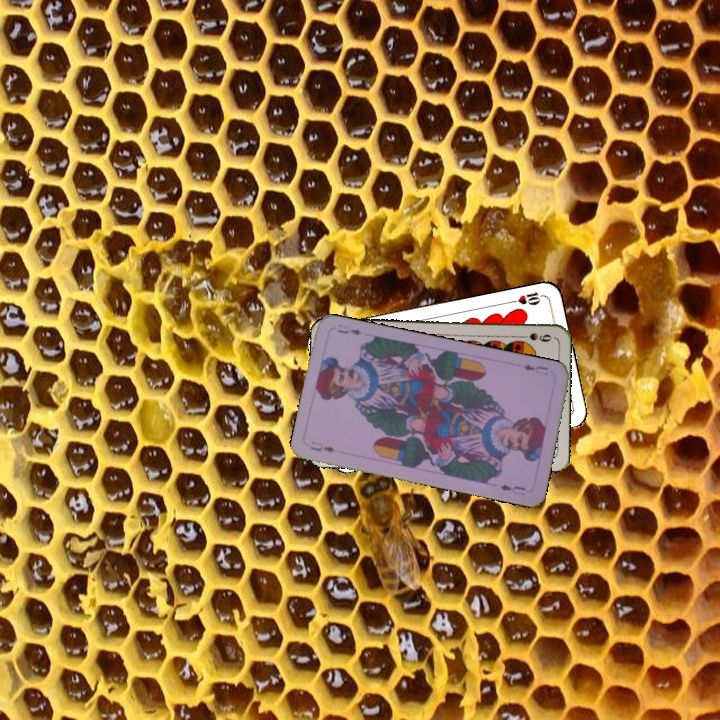EU: (519, 360, 551, 378), (306, 437, 338, 455)
H10: (506, 288, 547, 308)
S9: (514, 329, 554, 345)
